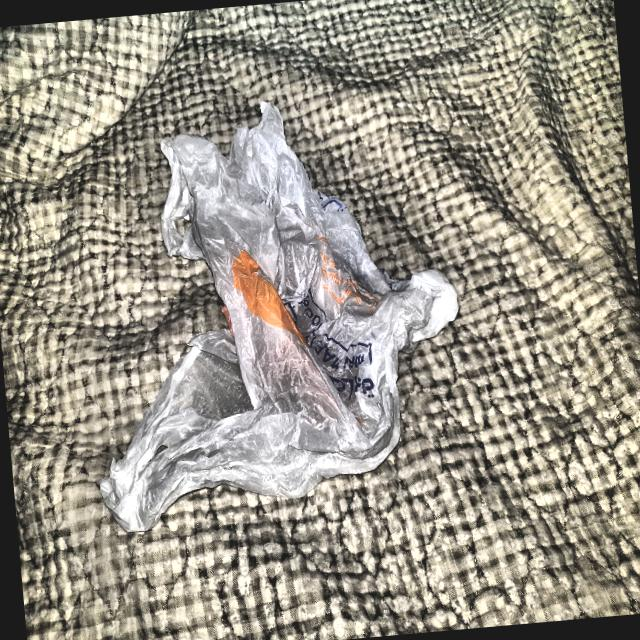plastic bag: (54, 74, 484, 541)
